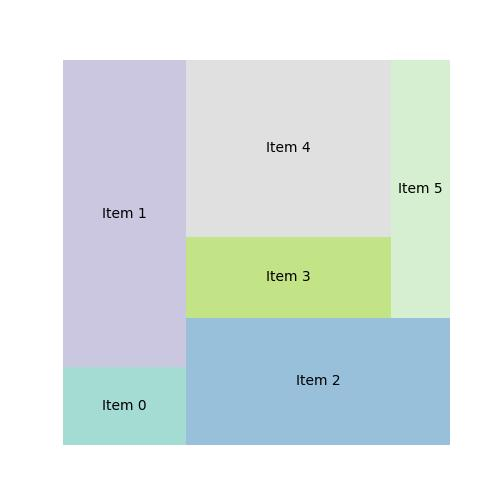rectangle: (62, 57, 186, 368), (185, 58, 391, 236), (186, 317, 449, 444), (186, 234, 391, 318), (390, 58, 450, 319), (62, 368, 186, 445)
